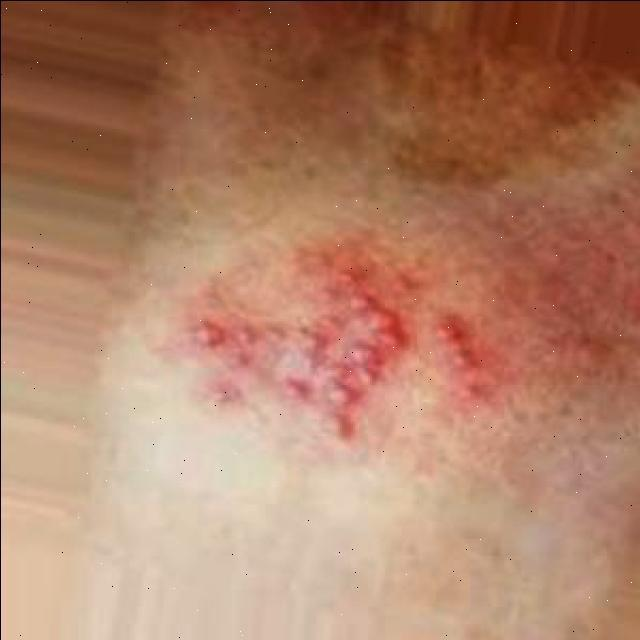Shingles: (172, 269, 482, 438)
